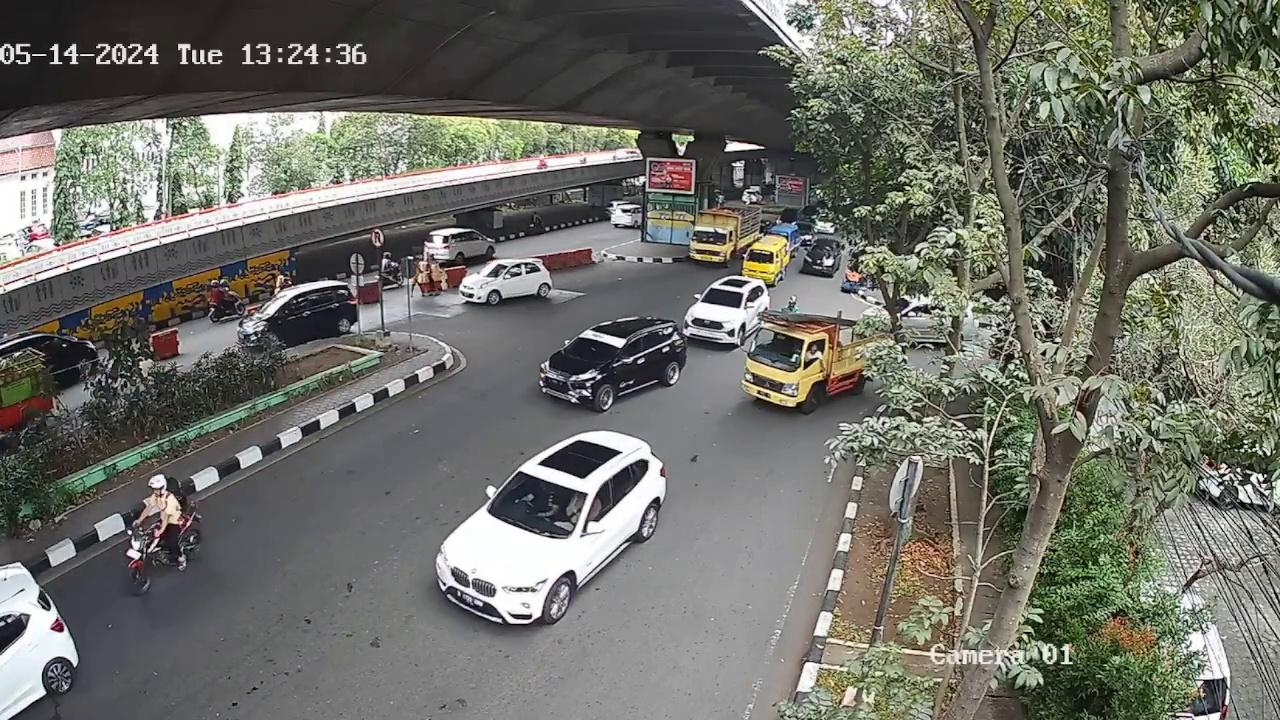tidak-pakai: (523, 480, 559, 520)
windshield: (498, 472, 591, 537), (747, 325, 824, 367), (560, 326, 629, 362)
